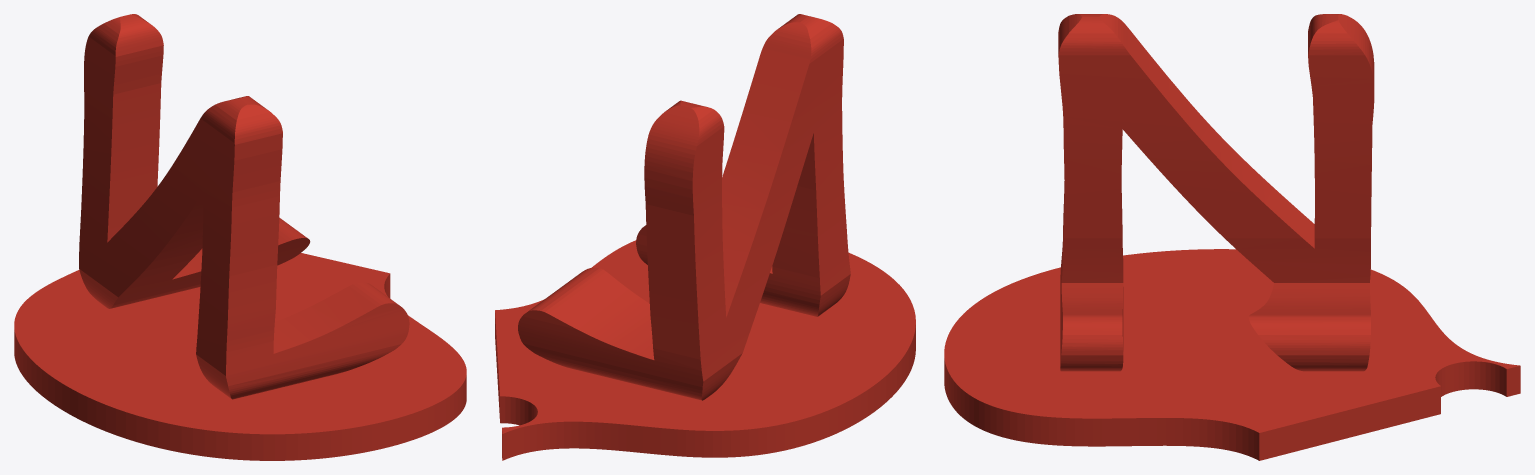
3 renders of one model, left to right at view 1: azimuth 30°, elevation 25°; view 2: azimuth 150°, elevation 25°; view 3: azimuth 270°, elevation 25°, orthographic. The views are drawn at different scales.
Size of the model in its own units: 28.25 by 23.47 by 37.41.
